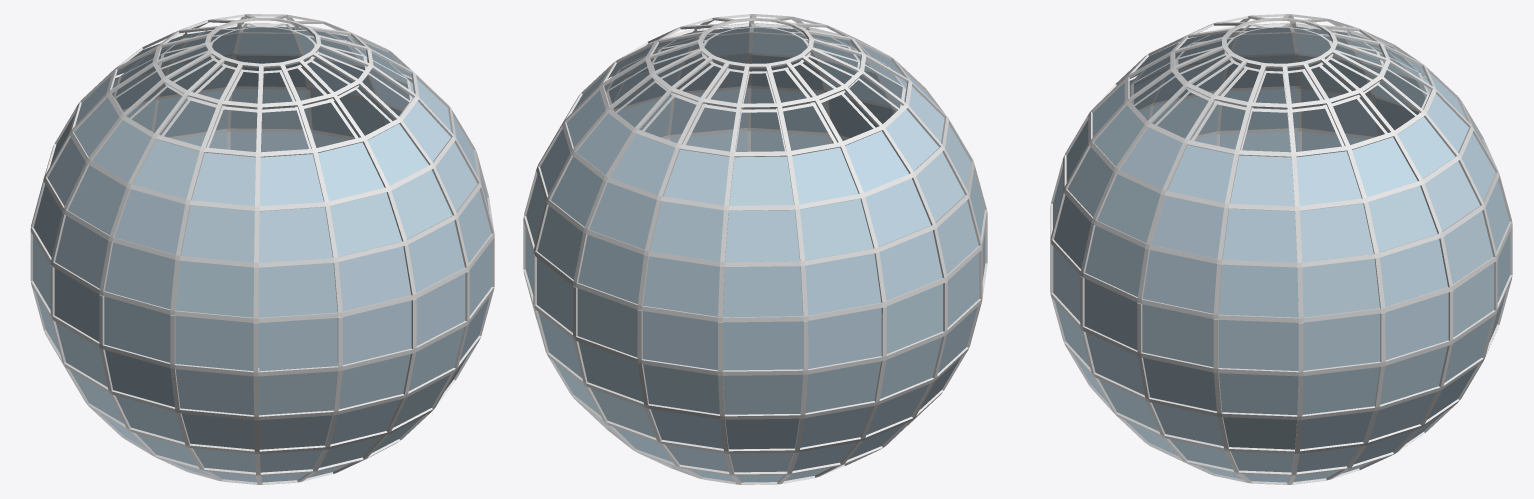
Rendered from Dome.fbx.
The picture shows the model from 3 angles, left to right: view 1: azimuth 30°, elevation 25°; view 2: azimuth 150°, elevation 25°; view 3: azimuth 270°, elevation 25°; orthographic projection.
Visible parts, largest first — view 1: Sphere.005; view 2: Sphere.005; view 3: Sphere.005.
Boxes of the visible parts, x1=… form: Sphere.005: x1=30, y1=14, x2=494, y2=484; Sphere.005: x1=523, y1=14, x2=987, y2=484; Sphere.005: x1=1050, y1=14, x2=1512, y2=484.
Bounding box in the file's own units: 199 × 197 × 216.
